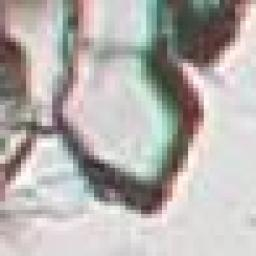crystals: (51, 46, 208, 212)
